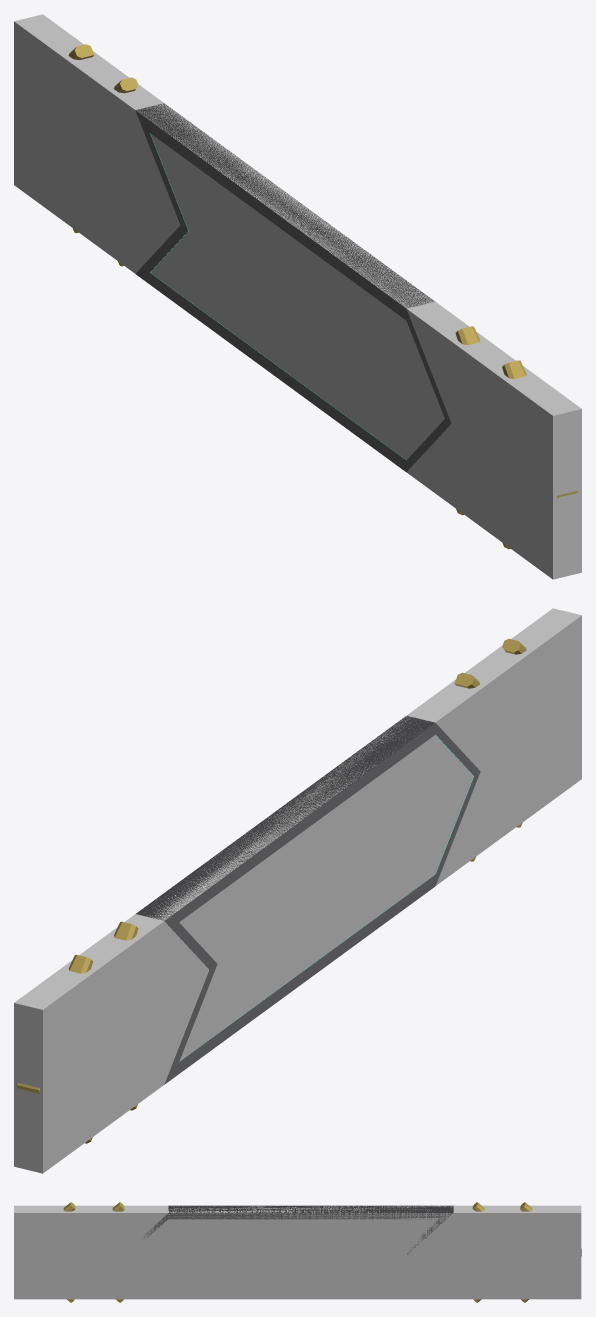
File: SM_Exit_Sign.fbx
The picture shows the model from 3 angles, top to bottom: view 1: azimuth 30°, elevation 25°; view 2: azimuth 150°, elevation 25°; view 3: azimuth 270°, elevation 25°; orthographic projection. The views are drawn at different scales.
Visible parts, largest first — view 1: SM_Exit_Sign_ConvexHulls, SM_Exit_Sign; view 2: SM_Exit_Sign_ConvexHulls, SM_Exit_Sign; view 3: SM_Exit_Sign_ConvexHulls, SM_Exit_Sign.
Part boxes in pixels (bbox=[...]): SM_Exit_Sign_ConvexHulls: bbox=[14, 14, 581, 579]; SM_Exit_Sign: bbox=[68, 44, 578, 549]; SM_Exit_Sign_ConvexHulls: bbox=[14, 608, 581, 1173]; SM_Exit_Sign: bbox=[16, 638, 526, 1143]; SM_Exit_Sign_ConvexHulls: bbox=[14, 1205, 581, 1299]; SM_Exit_Sign: bbox=[63, 1202, 581, 1302].
Size of the model in its own units: 25.23 by 813 by 155.
2 materials, 1 textured.
